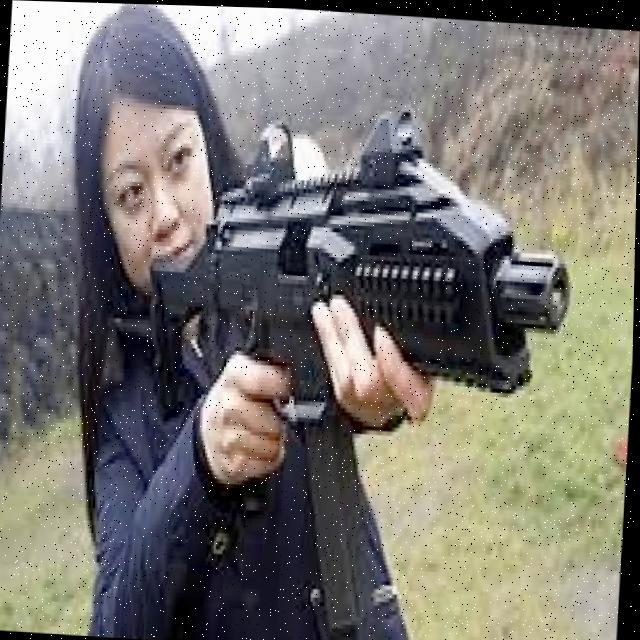firearm: (126, 80, 581, 640)
